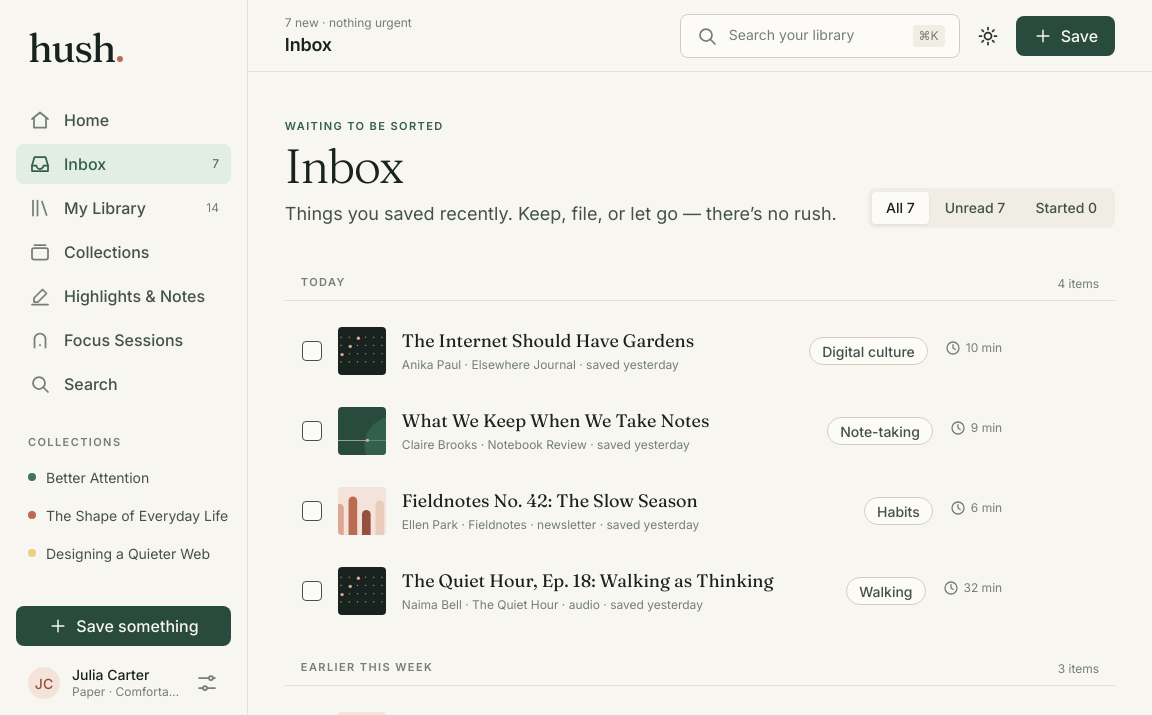
Test case: Inbox bulk delete › deletes the selected pieces after confirmation and can undo
Click the checkbox named "Select “The Internet Should Have Gardens”" at (312, 351), box [302,341,322,361]
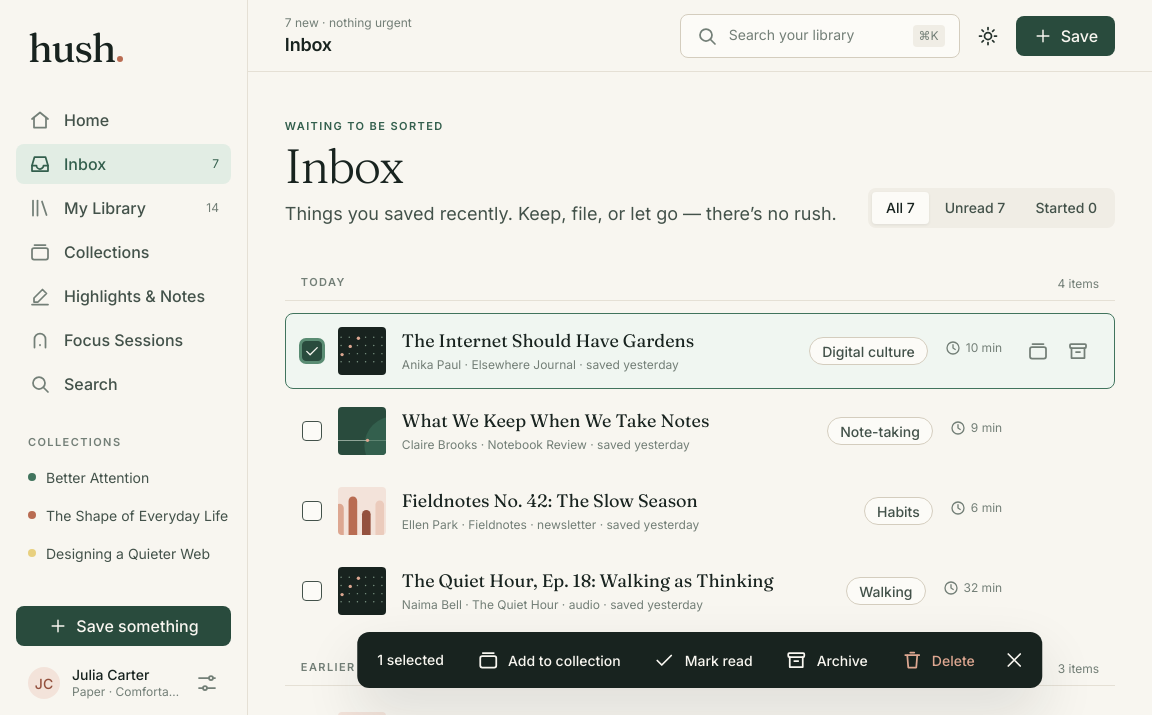
Click the checkbox named "Select “What We Keep When We Take Notes”" at (312, 431), box [302,421,322,441]
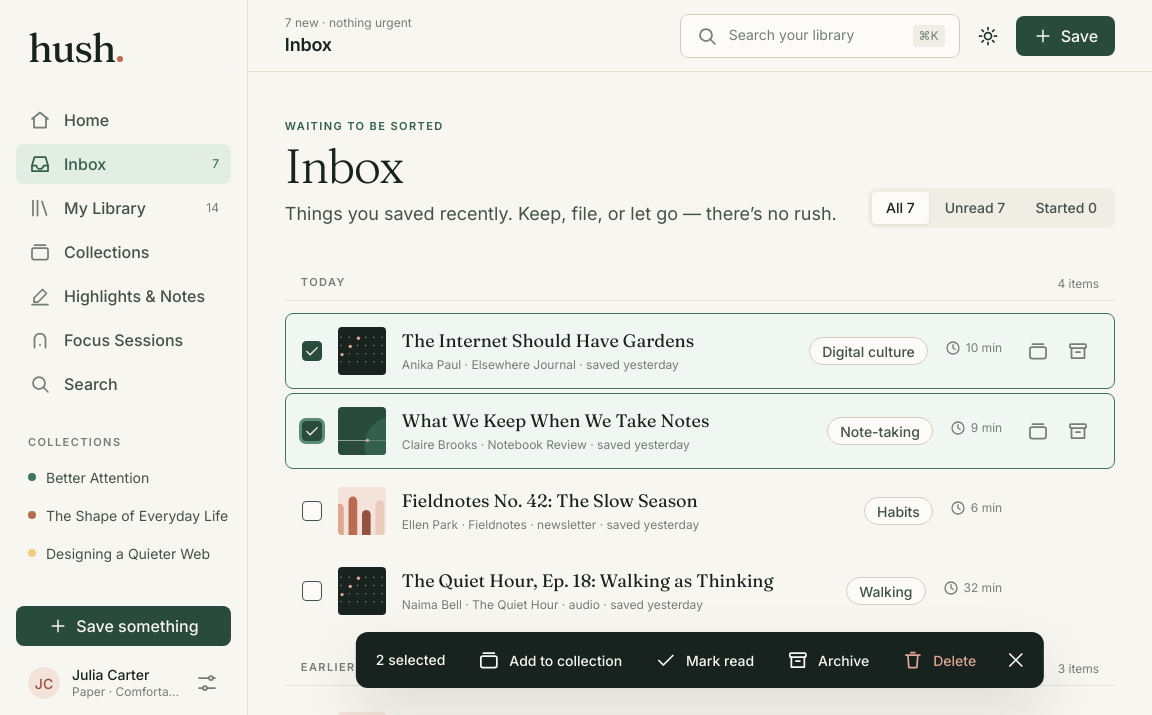
Click the button "Delete" at (939, 660), box [889,640,988,680]
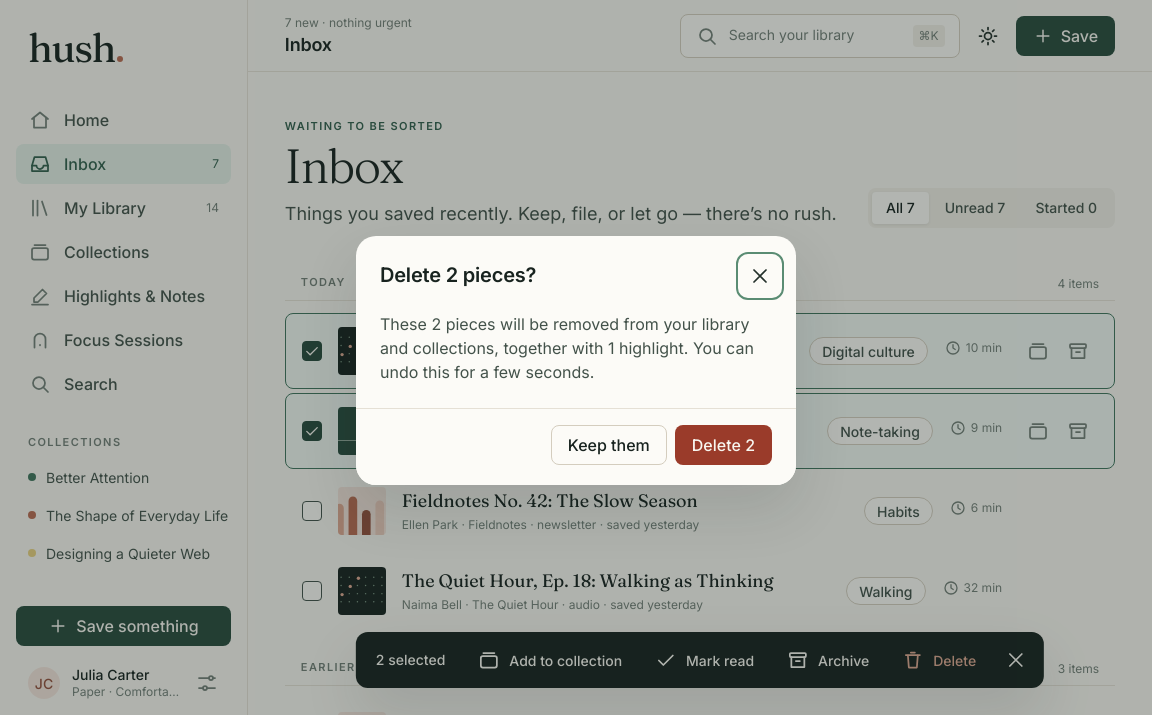
Click the button "Delete 2" at (723, 444), box [675,424,772,464]
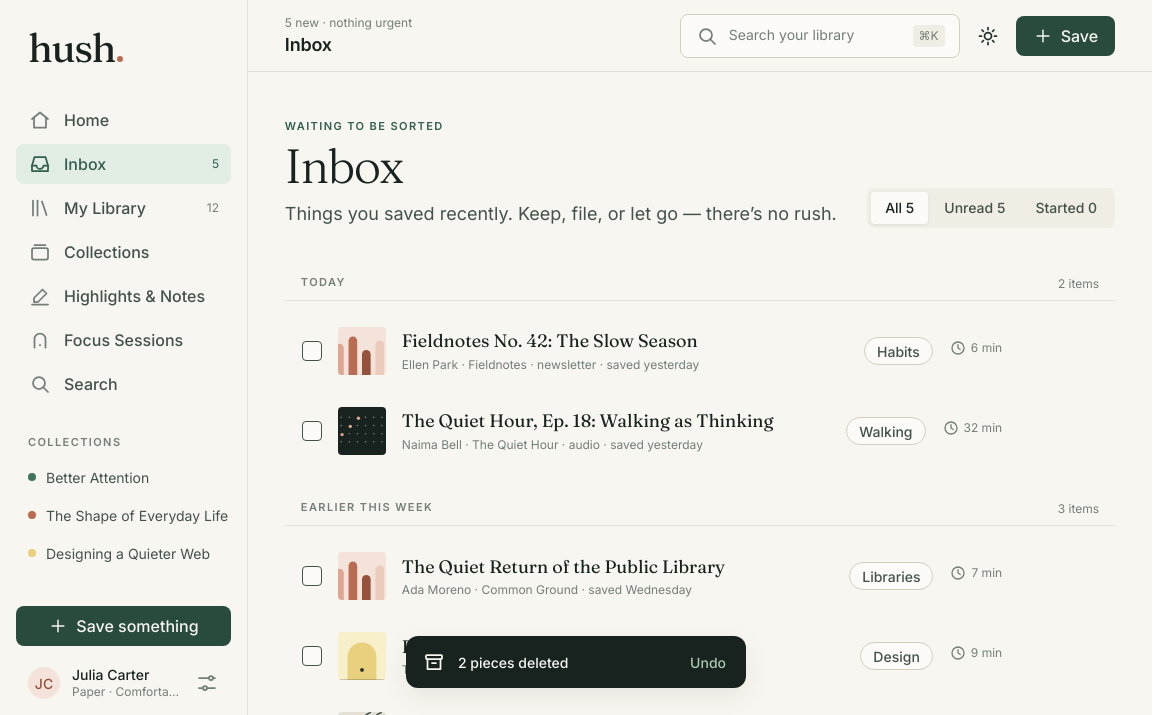
Expected: the link "The Internet Should Have Gardens" is gone
Expected: the text "2 pieces deleted" is shown, [458,654,568,670]
Click the button "Undo" at (708, 662), box [678,644,738,680]
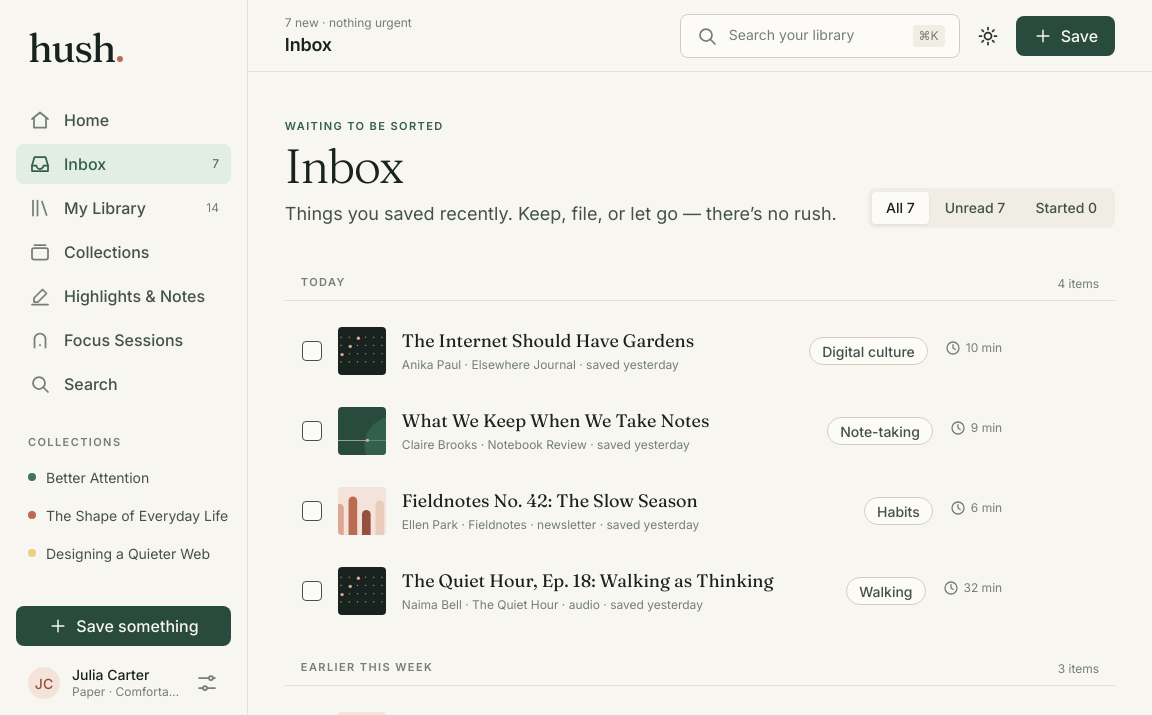
Expected: the link "The Internet Should Have Gardens" is shown, [402,329,694,352]
Expected: the link "What We Keep When We Take Notes" is shown, [402,409,709,432]
